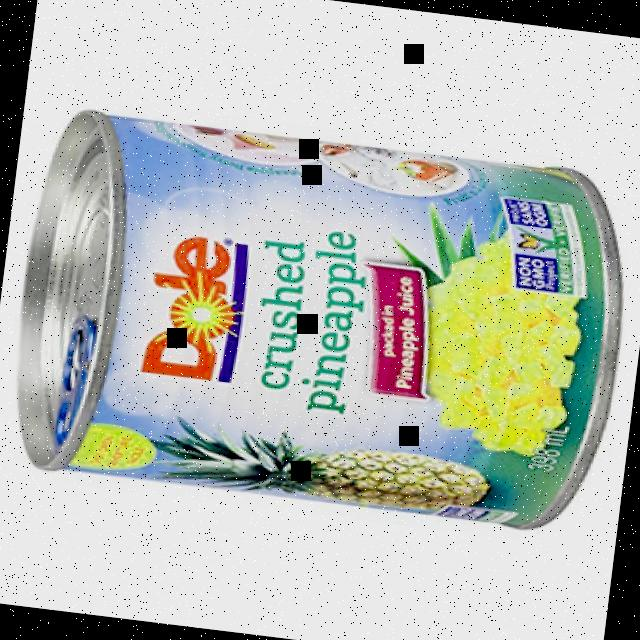can: (0, 101, 636, 537)
